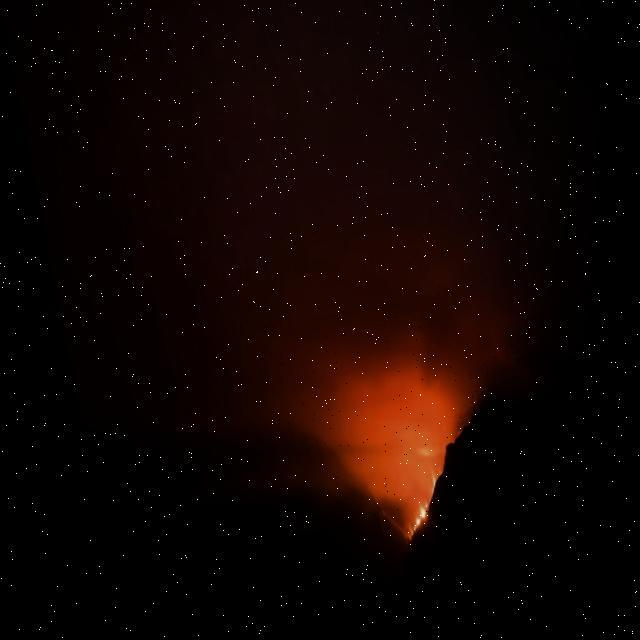Fire: (378, 483, 426, 548)
